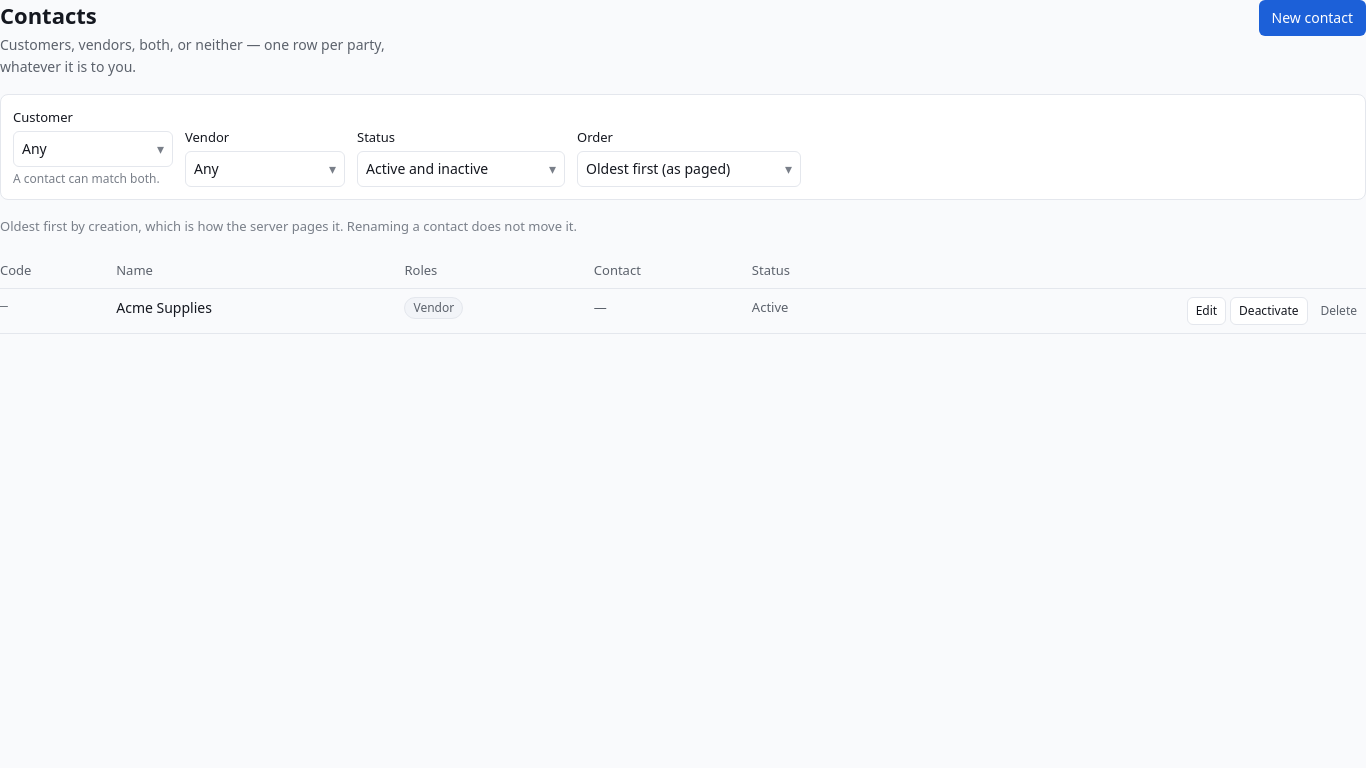
Test: ContactsScreen › deletion › points at the draft, and offers no deactivation, when a draft names the contact
Click the button with aria-label "Delete Acme Supplies".
click(1339, 311)  # box [1312,297,1365,325]
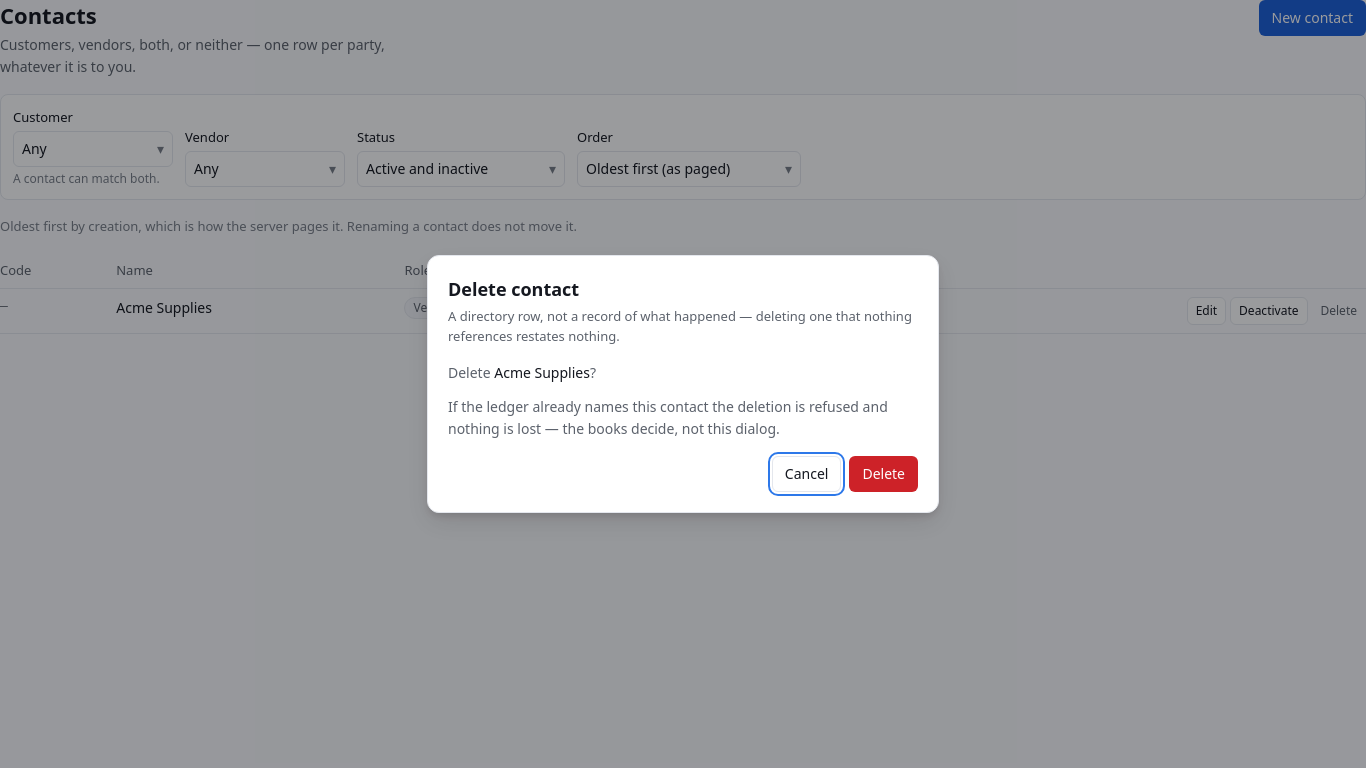
Click the button "Delete".
click(884, 474)  # box [849,456,918,492]
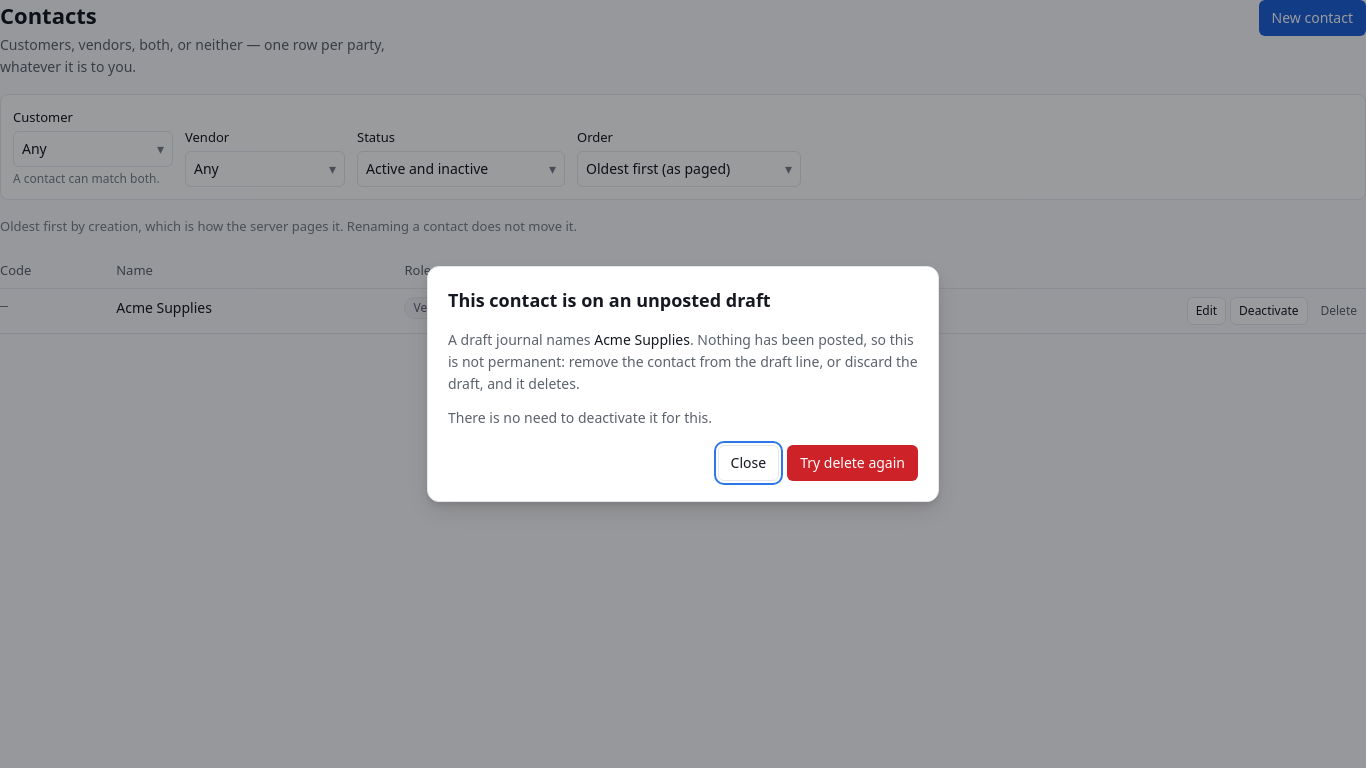
Check: the text "discard the draft" is shown, box [448,330,918,393]
Check: the button "Try delete again" is shown, box [787,445,918,481]
